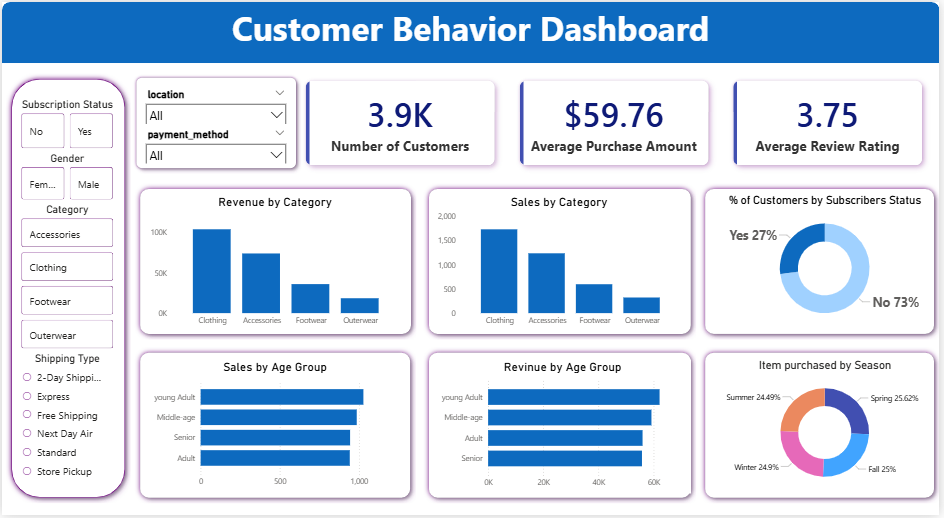

The dashboard page shown, as its layout file describes it:
{"tool":"powerbi","page":{"name":"Page 1","canvas":[1500,820],"ordinal":0},"visuals":[{"type":"cardVisual","fields":{"Data":["customer_behavior customer.Number of Customers","customer_behavior customer.Average Purchase Amount","customer_behavior customer.Average Review Rating"]},"box":[457.4,98.4,1042.6,191.8],"z":0},{"type":"shape","box":[0,0,1500,98],"z":1000},{"type":"textbox","box":[0,0,1500,98.4],"z":2000},{"type":"shape","box":[674.3,290,437.1,250],"z":3000},{"type":"shape","box":[1115.7,290,384.3,250],"z":4000},{"type":"shape","box":[211.4,290,451.4,250],"z":5000},{"type":"donutChart","title":"% of Customers by Subscribers Status","fields":{"Category":["customer_behavior customer.subscription_status"],"Y":["CountNonNull(customer_behavior customer.customer_id)"]},"box":[1148.6,305.7,337.1,220],"z":6000},{"type":"clusteredColumnChart","title":"Revenue by Category","fields":{"Y":["Sum(customer_behavior customer.purchase_amount)"],"Category":["customer_behavior customer.category"]},"box":[231.4,307.1,410,220],"z":7000},{"type":"clusteredColumnChart","title":"Sales  by Category","fields":{"Y":["CountNonNull(customer_behavior customer.customer_id)"],"Category":["customer_behavior customer.category"]},"box":[691.4,307.1,398.6,220],"z":8000},{"type":"shape","box":[6,114,200,688],"z":9000},{"type":"advancedSlicerVisual","fields":{"Values":["customer_behavior customer.subscription_status"]},"box":[26,153,157,86],"z":10000},{"type":"advancedSlicerVisual","fields":{"Values":["customer_behavior customer.gender"]},"box":[26,239,157,82],"z":11000},{"type":"advancedSlicerVisual","fields":{"Values":["customer_behavior customer.category"]},"box":[26,321,157,238],"z":12000},{"type":"listSlicer","fields":{"Values":["customer_behavior customer.shipping_type"]},"box":[26,559,157,214],"z":13000},{"type":"shape","box":[212.9,552.9,450,250],"z":14000},{"type":"clusteredBarChart","title":"Sales by Age Group","fields":{"Y":["CountNonNull(customer_behavior customer.customer_id)"],"Category":["customer_behavior customer.age_group"]},"box":[231.7,571.7,410,213.3],"z":15000},{"type":"shape","box":[674.3,552.9,437.1,250],"z":16000},{"type":"clusteredBarChart","title":"Revinue by Age Group","fields":{"Y":["Sum(customer_behavior customer.purchase_amount)"],"Category":["customer_behavior customer.age_group"]},"box":[691.4,571.4,410,214.3],"z":17000},{"type":"shape","box":[205.3,112.9,273.5,162.9],"z":18000},{"type":"slicer","fields":{"Values":["customer_behavior customer.payment_method"]},"box":[219.7,196.7,244.3,62.3],"z":19000},{"type":"slicer","fields":{"Values":["customer_behavior customer.location"]},"box":[220,131.4,244.3,62.9],"z":20000},{"type":"shape","box":[1115.7,552.9,384.3,250],"z":21000},{"type":"donutChart","title":"Item purchased by Season","fields":{"Category":["customer_behavior customer.season"],"Y":["CountNonNull(customer_behavior customer.item_purchased)"]},"box":[1148.6,570,337.1,217.1],"z":22000}]}

Visuals, with their boxes in screenshot pixels (x1, y1, x2, y2), scaled from the page's 1500x820 canvas onto the 944x518 screenshot:
cardVisual - customer_behavior customer.Number of Customers x customer_behavior customer.Average Purchase Amount: 288/62/943/183
shape: 0/0/943/62
textbox: 0/0/943/62
shape: 424/183/699/341
shape: 702/183/943/341
shape: 133/183/417/341
"% of Customers by Subscribers Status" donutChart: 723/193/935/332
"Revenue by Category" clusteredColumnChart: 146/194/404/333
"Sales  by Category" clusteredColumnChart: 435/194/686/333
shape: 4/72/130/507
advancedSlicerVisual - customer_behavior customer.subscription_status: 16/97/115/151
advancedSlicerVisual - customer_behavior customer.gender: 16/151/115/203
advancedSlicerVisual - customer_behavior customer.category: 16/203/115/353
listSlicer - customer_behavior customer.shipping_type: 16/353/115/488
shape: 134/349/417/507
"Sales by Age Group" clusteredBarChart: 146/361/404/496
shape: 424/349/699/507
"Revinue by Age Group" clusteredBarChart: 435/361/693/496
shape: 129/71/301/174
slicer - customer_behavior customer.payment_method: 138/124/292/164
slicer - customer_behavior customer.location: 138/83/292/123
shape: 702/349/943/507
"Item purchased by Season" donutChart: 723/360/935/497
